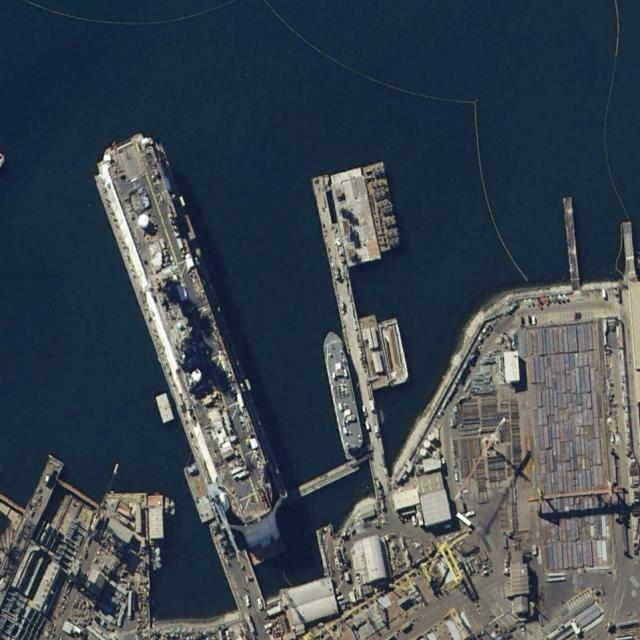Landing: (101, 128, 282, 529)
Other Ship: (319, 326, 367, 462)
